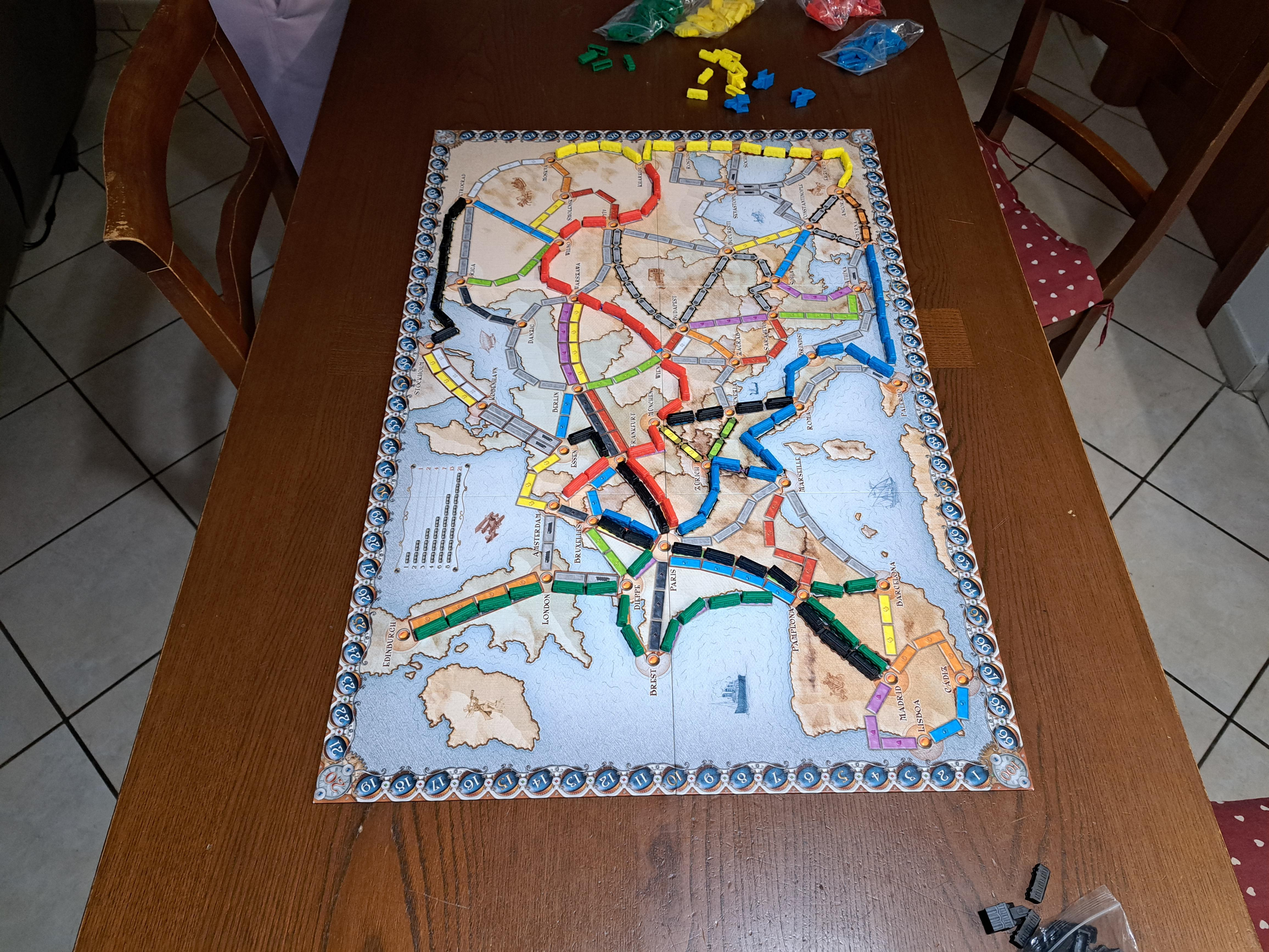corner_bl: (217, 741, 270, 775)
corner_br: (1078, 638, 1097, 656)
corner_tl: (200, 235, 253, 267)
corner_tr: (1075, 325, 1096, 342)
